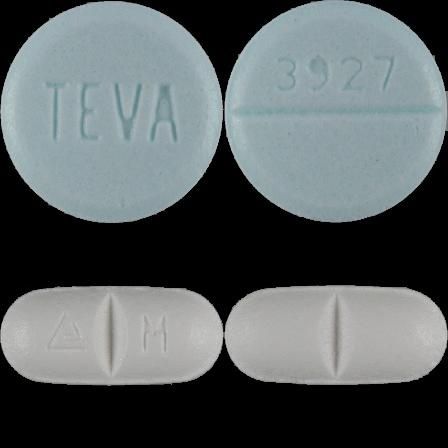63187-544: (0, 0, 224, 224)
